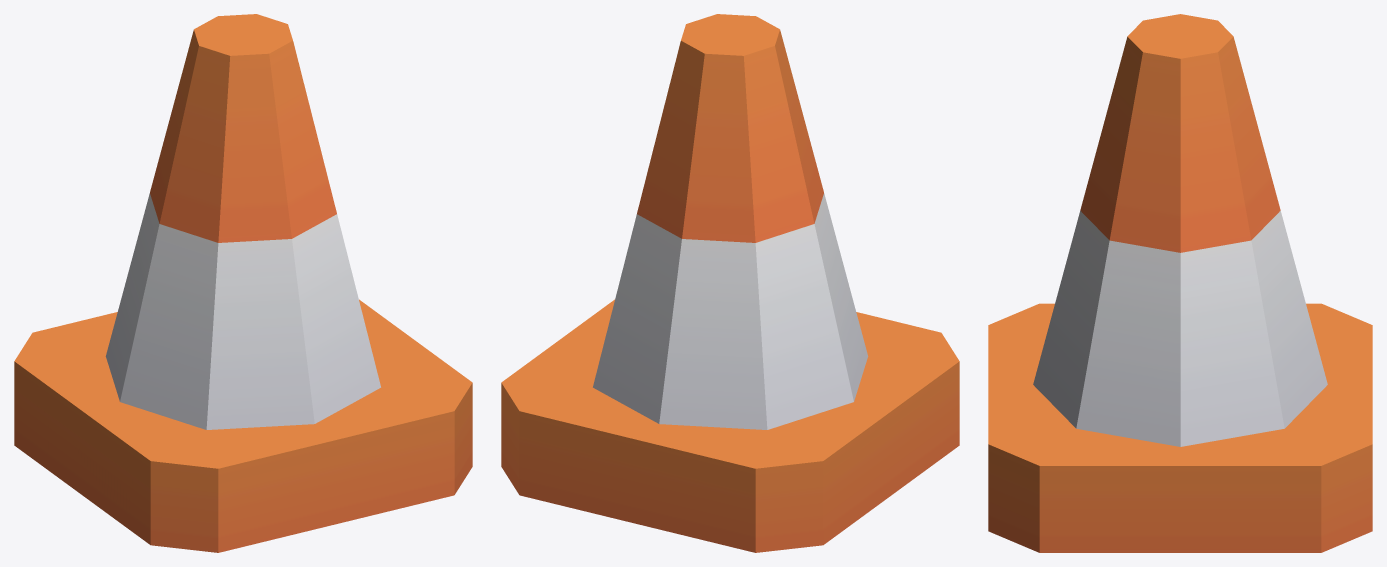
The model's file is roads__construction-cone.glb.
3 views of the same model, side by side, from view 1: azimuth 30°, elevation 25°; view 2: azimuth 150°, elevation 25°; view 3: azimuth 270°, elevation 25° (orthographic). The views are drawn at different scales.
Parts seen in each view (by area): view 1: construction-cone; view 2: construction-cone; view 3: construction-cone.
Boxes of the visible parts, x1,y1,x2,y2 form: construction-cone: (14,14,472,552); construction-cone: (501,14,959,552); construction-cone: (988,14,1372,552).
Size of the model in its own units: 0.075 by 0.0938 by 0.075.
1 material, 1 textured.
